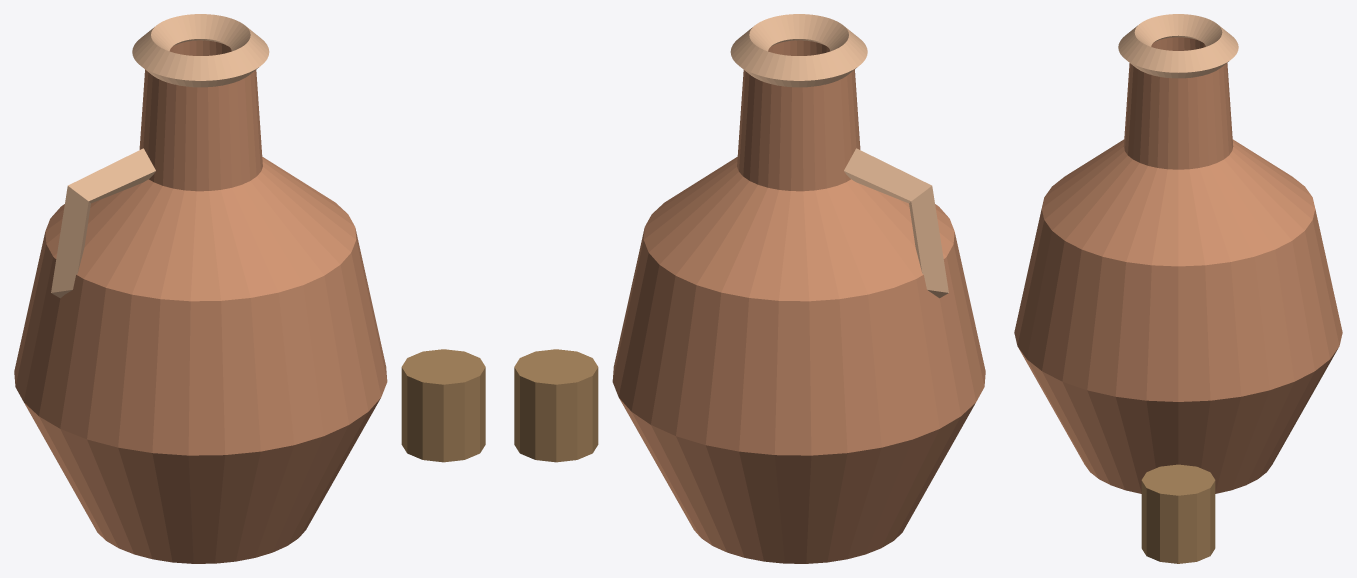
3 renders of one model, left to right at view 1: azimuth 30°, elevation 25°; view 2: azimuth 150°, elevation 25°; view 3: azimuth 270°, elevation 25°, orthographic. The views are drawn at different scales.
Parts seen in each view (by area): view 1: BA-0025 batched; view 2: BA-0025 batched; view 3: BA-0025 batched.
Boxes of the visible parts, x1=… form: BA-0025 batched: x1=14, y1=14, x2=485, y2=563; BA-0025 batched: x1=514, y1=14, x2=985, y2=563; BA-0025 batched: x1=1014, y1=14, x2=1342, y2=563.
Bounding box in the file's own units: 0.327 × 0.342 × 0.24.
